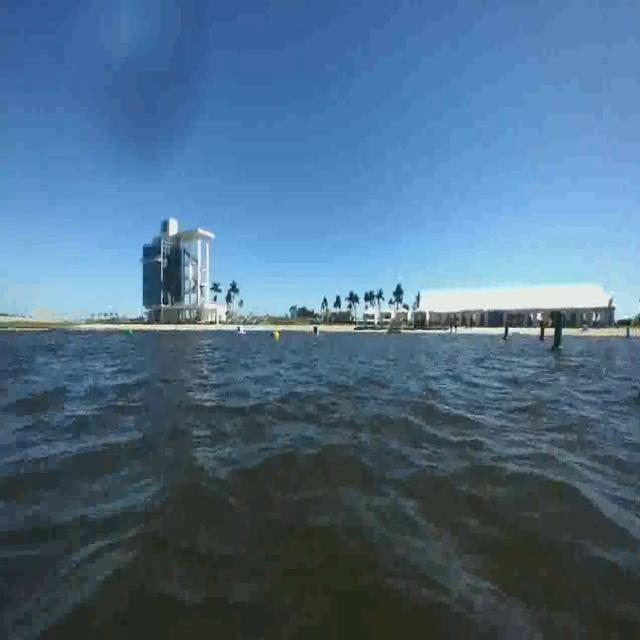green-column-buoy: (551, 310, 566, 359)
